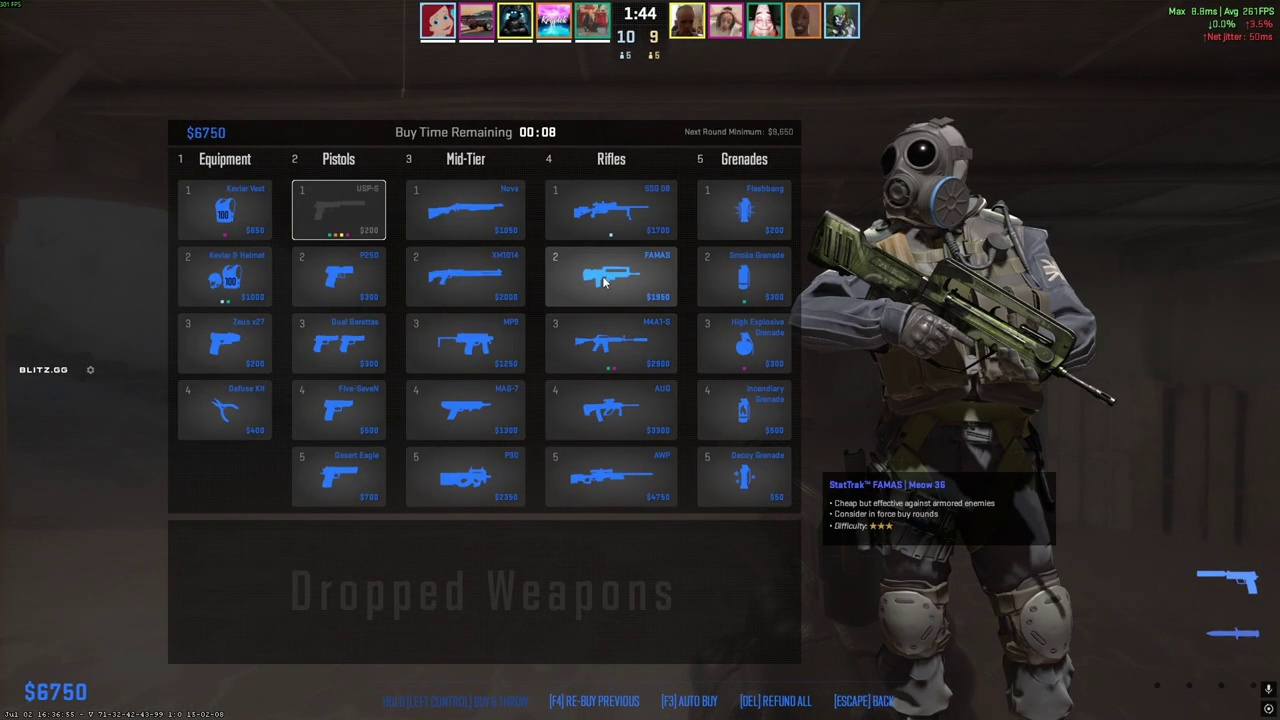CT: (855, 122, 1080, 720)
